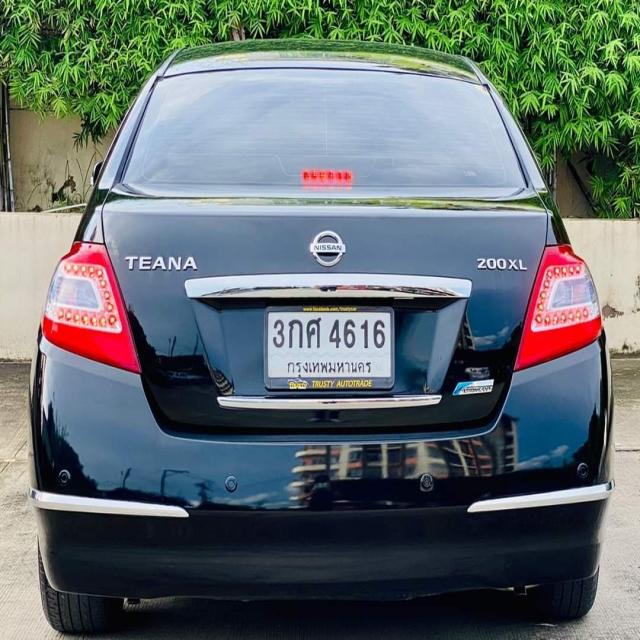license_plate: (262, 302, 395, 392)
